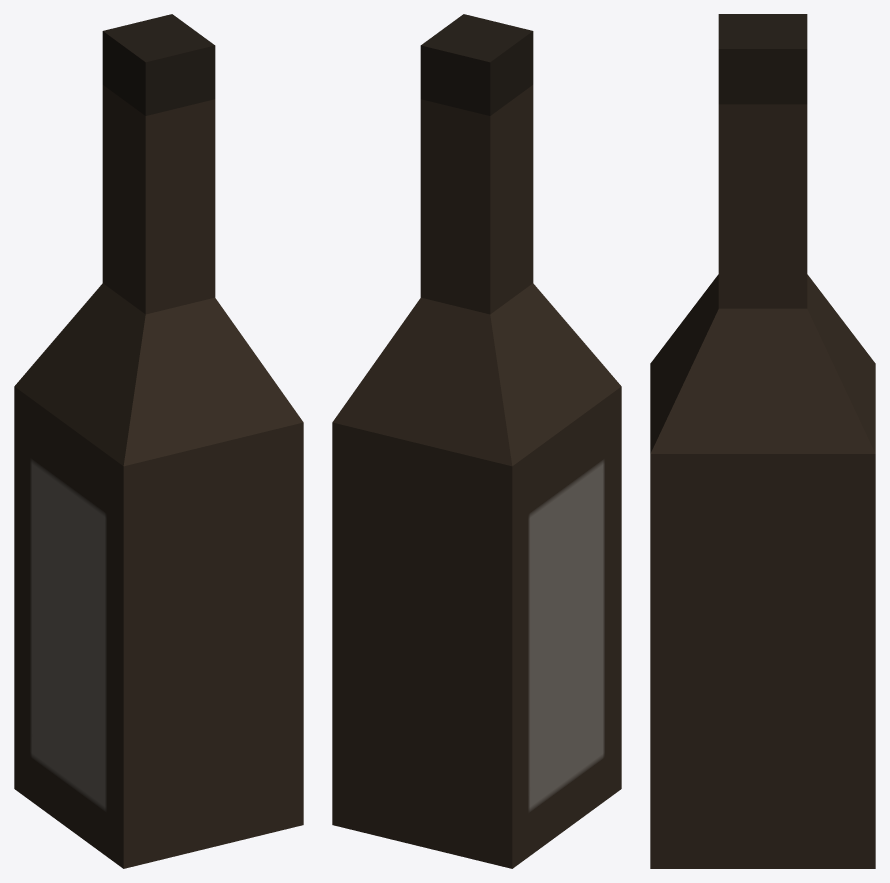
The model's file is Bottle1.FBX.
3 renders of one model, left to right at view 1: azimuth 30°, elevation 25°; view 2: azimuth 150°, elevation 25°; view 3: azimuth 270°, elevation 25°, orthographic. The views are drawn at different scales.
Parts seen in each view (by area): view 1: Bottle1; view 2: Bottle1; view 3: Bottle1.
Part boxes in pixels (<box>): Bottle1: <box>14,14,303,868</box>; Bottle1: <box>332,14,621,868</box>; Bottle1: <box>650,14,875,868</box>.
Size of what is drawn, in the model's own units: 37.35 by 39.27 by 152.
